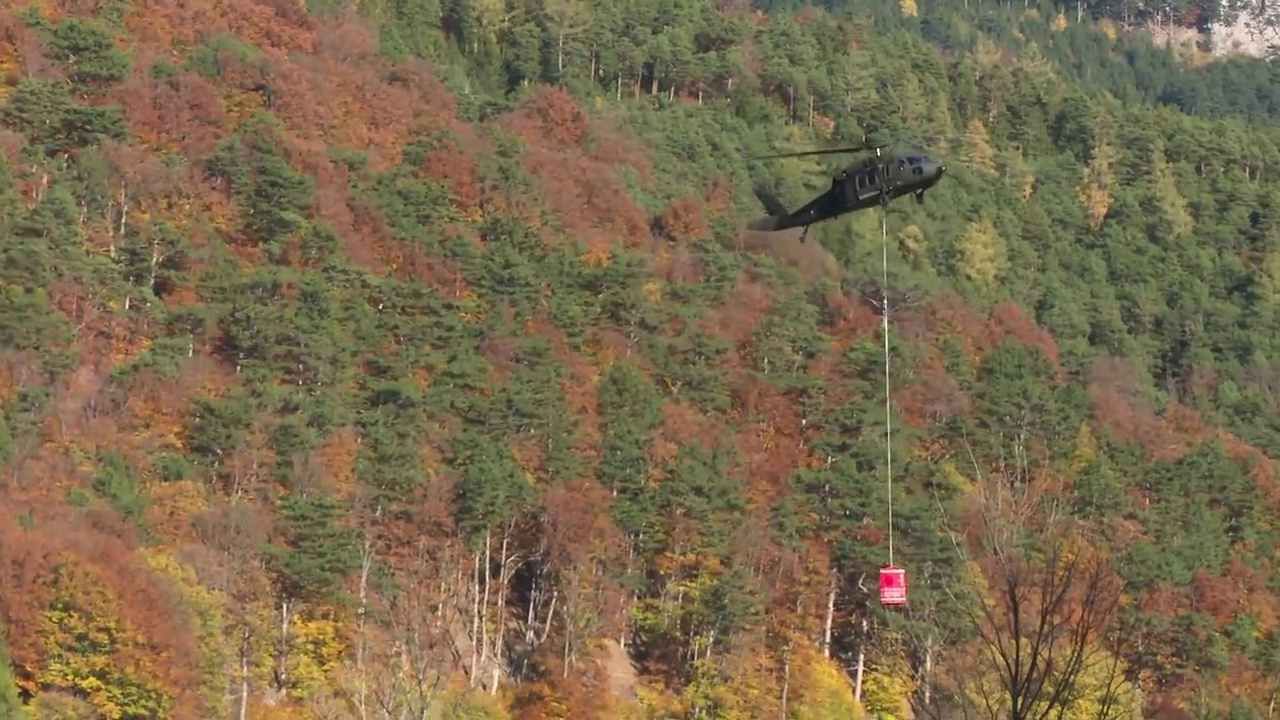heli: (744, 143, 947, 234)
